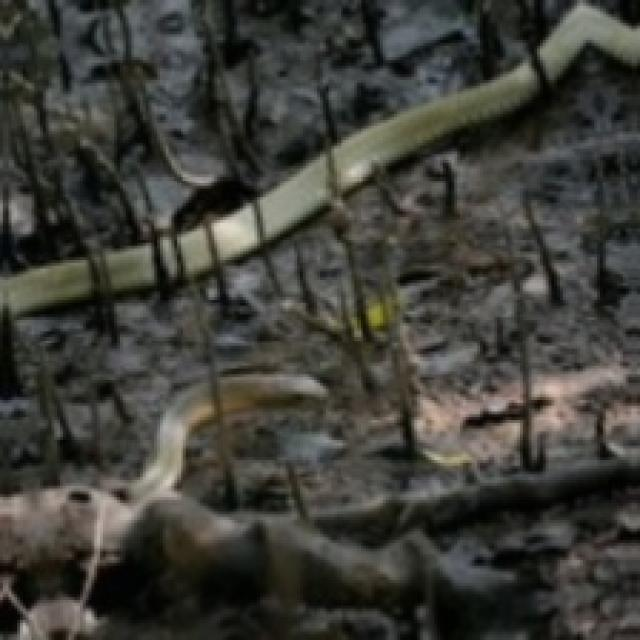king cobra: (337, 64, 539, 192), (129, 382, 214, 503), (540, 6, 640, 82), (258, 154, 328, 242), (0, 262, 88, 316), (219, 374, 329, 413), (212, 204, 260, 262), (106, 244, 154, 293), (179, 226, 211, 277)
